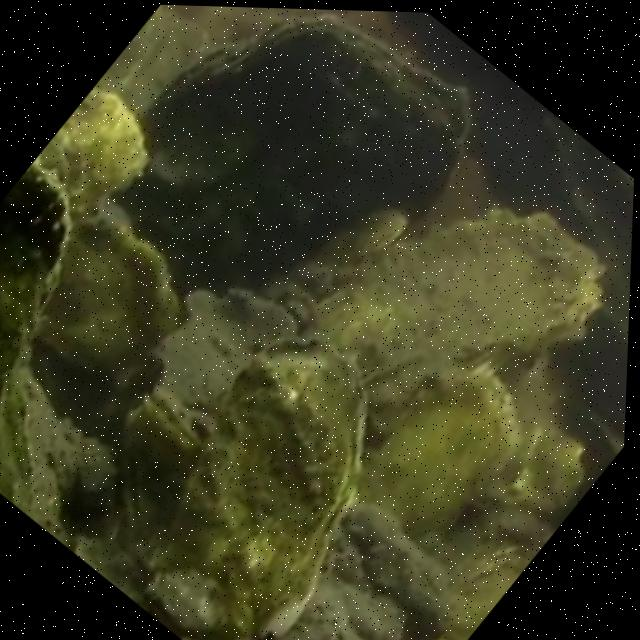Oyster-Closed: (114, 10, 479, 302), (315, 213, 605, 410), (118, 455, 162, 531)
Oyster-Indeterminate: (144, 338, 369, 640), (351, 368, 526, 544), (0, 162, 74, 512), (44, 208, 187, 373), (41, 87, 154, 202)
